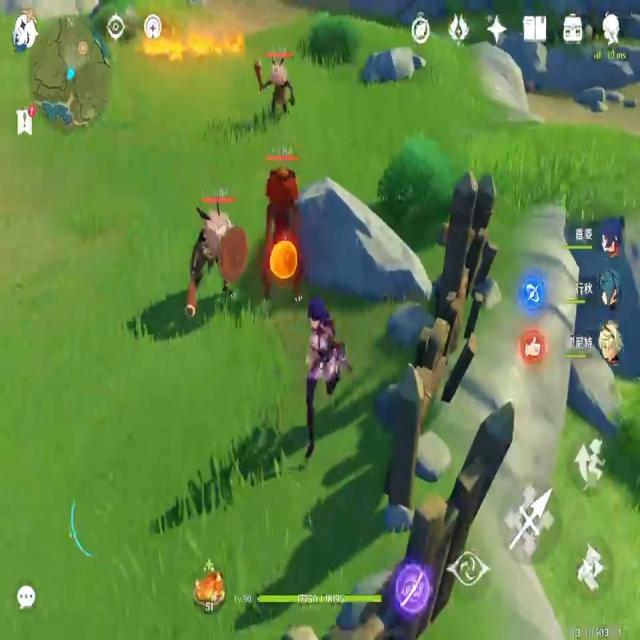genshin-hilichurls: (258, 156, 312, 300), (188, 175, 238, 327), (252, 43, 292, 113)
